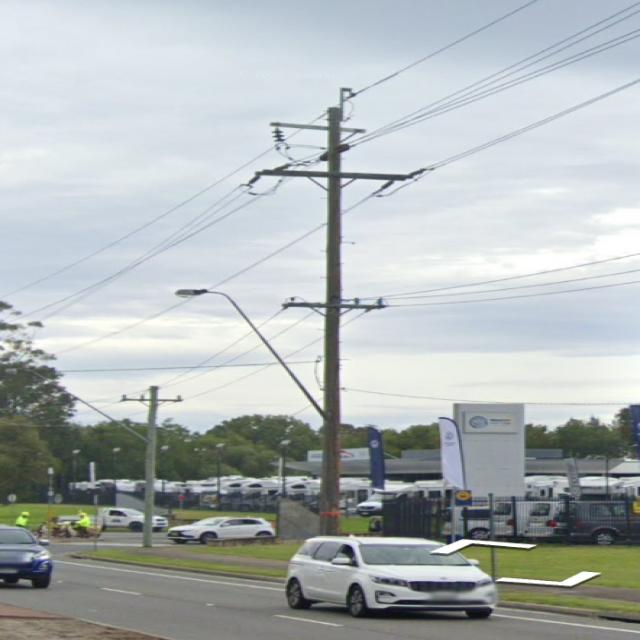HV-transmission: (237, 88, 430, 194), (120, 394, 182, 402)
crossarm: (256, 167, 406, 179), (266, 121, 365, 131), (279, 301, 386, 309), (119, 397, 182, 402)
streetlight: (172, 288, 322, 416), (1, 366, 145, 440)
timber-pole: (317, 105, 339, 532), (142, 386, 158, 548)
